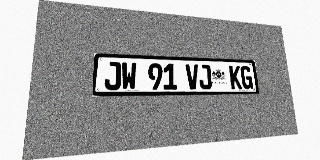1: (163, 63, 177, 90)
9: (148, 63, 163, 90)
G: (240, 66, 253, 89)
J: (104, 61, 121, 90), (198, 64, 212, 89)
K: (229, 65, 242, 89)
V: (185, 64, 199, 89)
W: (121, 62, 137, 90)
